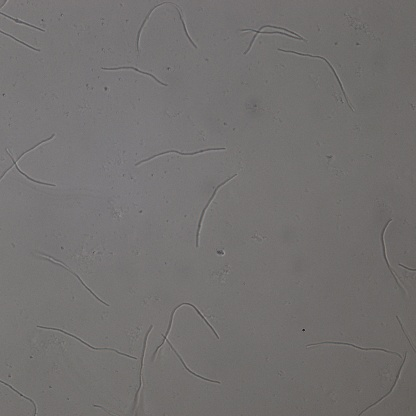Sensitive: (153, 299, 221, 387), (278, 47, 355, 113), (36, 252, 107, 306), (134, 1, 197, 53), (38, 327, 136, 360), (1, 133, 56, 189), (196, 173, 236, 247), (360, 353, 409, 413), (240, 13, 307, 56), (378, 217, 403, 292), (136, 146, 226, 166), (1, 380, 46, 415), (308, 344, 401, 360), (103, 65, 167, 87), (136, 326, 152, 411), (1, 31, 41, 52), (1, 12, 45, 31)
